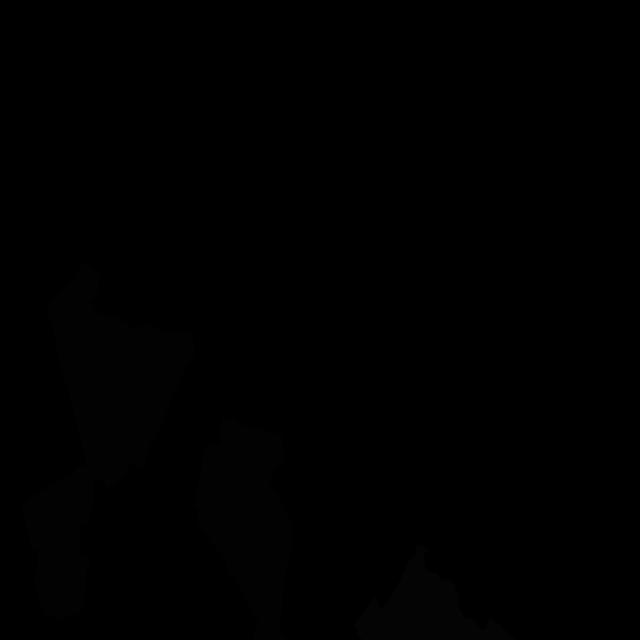cardboard: (22, 263, 196, 620), (194, 415, 294, 640)
soft_plastic: (353, 544, 516, 640)
